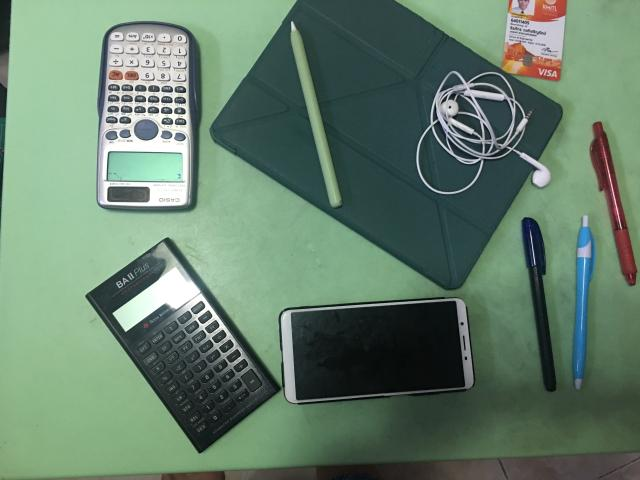Mobile phone: (279, 298, 475, 404)
Pen: (590, 121, 638, 285), (522, 218, 556, 391), (574, 216, 595, 389)
wire: (416, 71, 550, 195)
